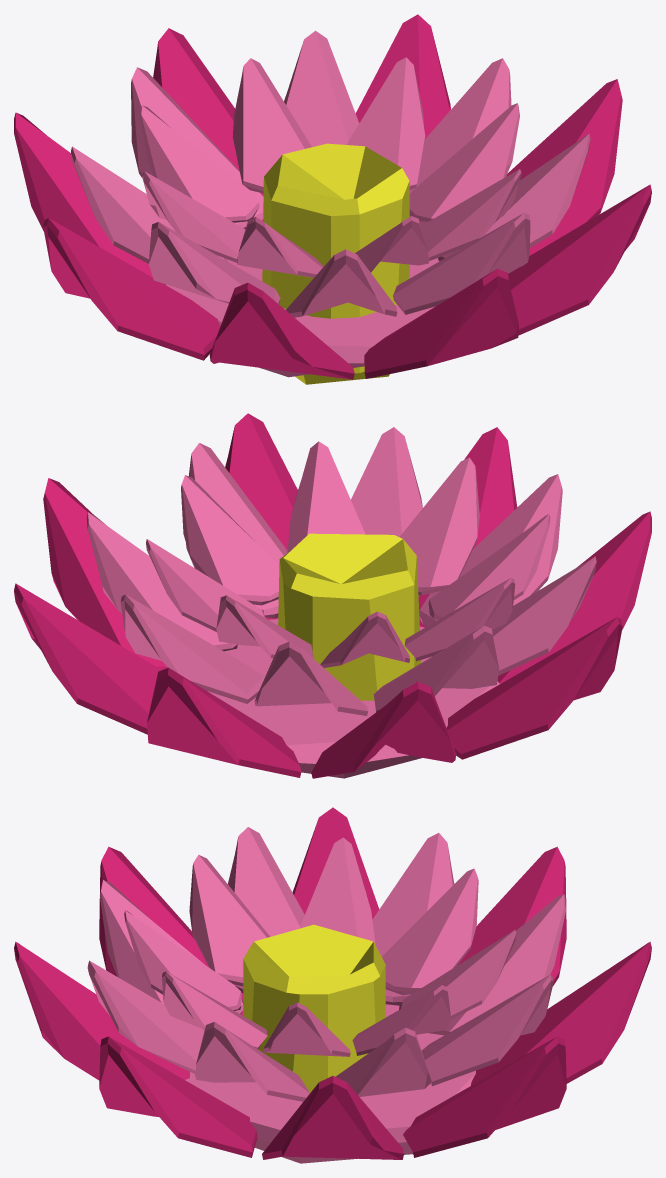
File: lilyFlower.fbx
3 views of the same model, one above another, from view 1: azimuth 30°, elevation 25°; view 2: azimuth 150°, elevation 25°; view 3: azimuth 270°, elevation 25° (orthographic). The views are drawn at different scales.
Parts seen in each view (by area): view 1: Sphere.025, Sphere.000, Sphere.001; view 2: Sphere.025, Sphere.000, Sphere.001; view 3: Sphere.025, Sphere.000, Sphere.001.
Part boxes in pixels (bbox=[...]): Sphere.025: bbox=[71, 30, 590, 377]; Sphere.000: bbox=[14, 14, 651, 379]; Sphere.001: bbox=[262, 143, 409, 384]; Sphere.025: bbox=[86, 427, 596, 778]; Sphere.000: bbox=[14, 413, 651, 778]; Sphere.001: bbox=[278, 533, 421, 700]; Sphere.025: bbox=[87, 827, 565, 1163]; Sphere.000: bbox=[14, 807, 651, 1159]; Sphere.001: bbox=[243, 924, 385, 1092].
Bounding box in the file's own units: 182 × 66.81 × 182.
